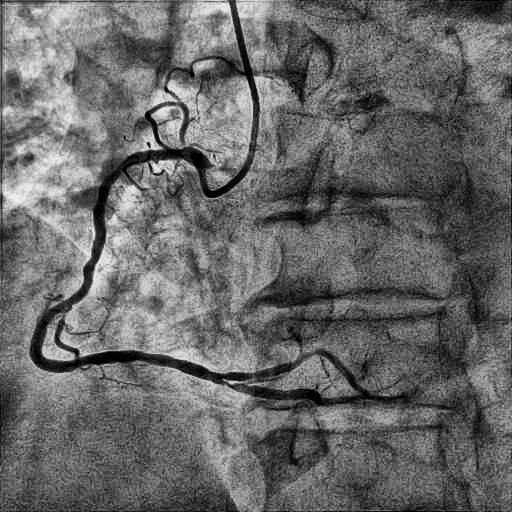pborca: (220, 349, 370, 395)
pda: (217, 379, 358, 406)
rca: (30, 147, 219, 382)
